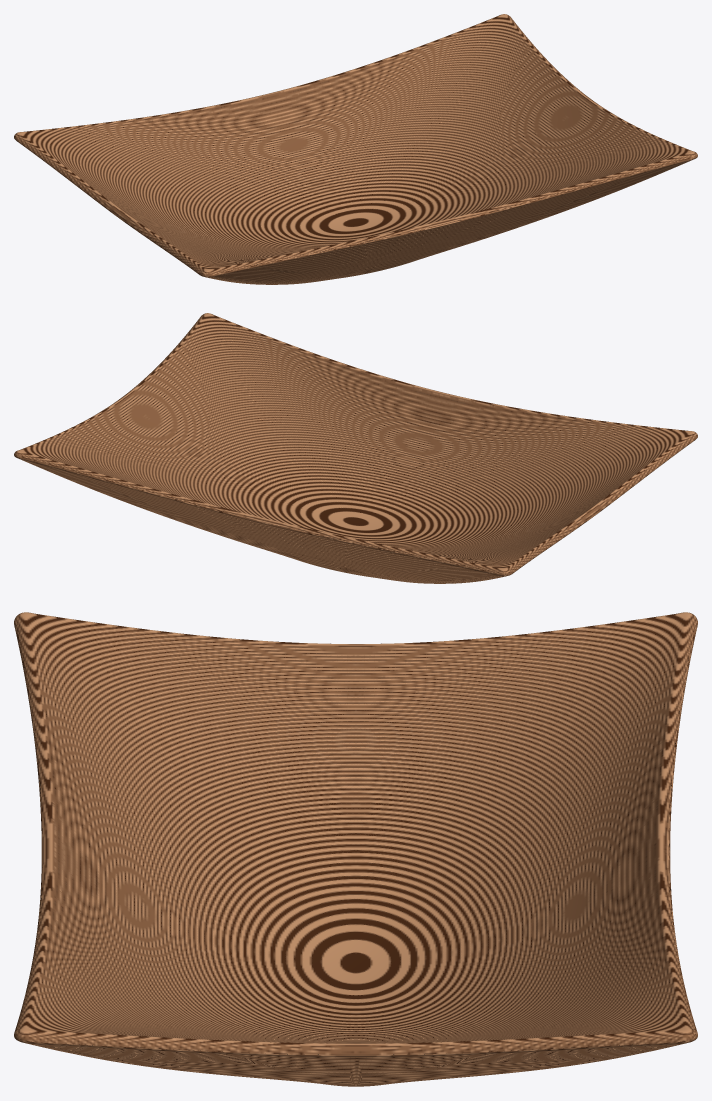
Rendered from Заготовка7 120 30.glb.
The picture shows the model from 3 angles, top to bottom: view 1: azimuth 30°, elevation 25°; view 2: azimuth 150°, elevation 25°; view 3: azimuth 270°, elevation 25°; orthographic projection. The views are drawn at different scales.
Visible parts, largest first — view 1: Solid_115; view 2: Solid_115; view 3: Solid_115.
Part boxes in pixels (bbox=[...]): Solid_115: bbox=[14, 14, 697, 284]; Solid_115: bbox=[14, 313, 697, 583]; Solid_115: bbox=[14, 612, 697, 1086].
Size of the model in its own units: 558 by 114 by 378.
1 material, 1 textured.
